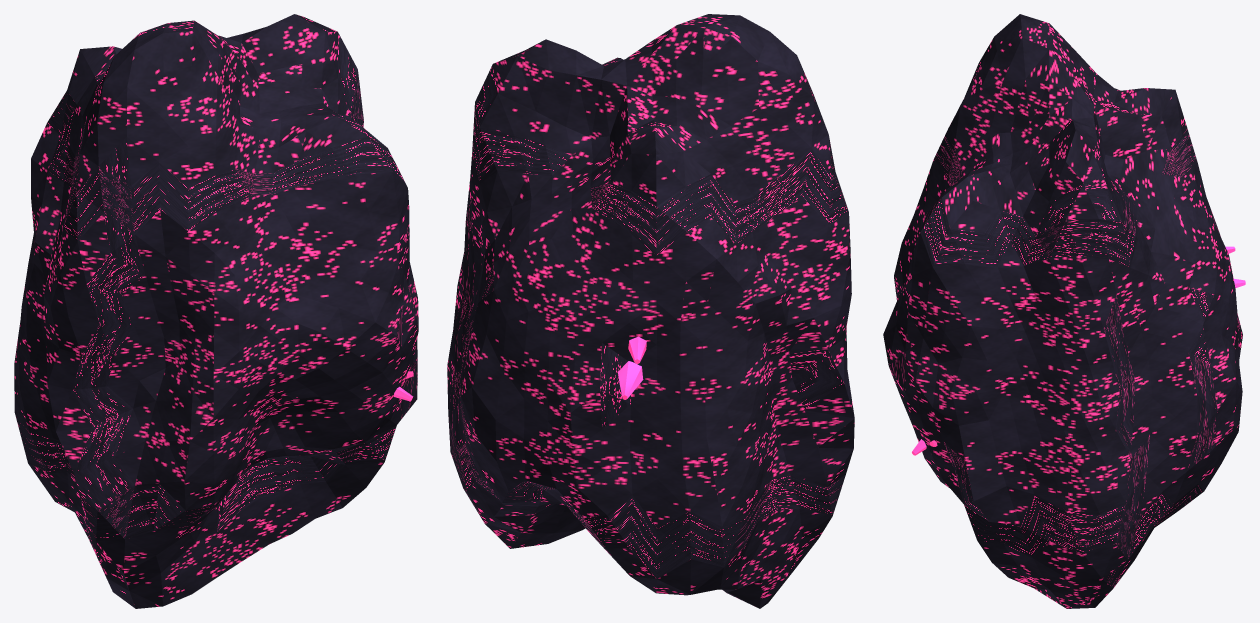
Rendered from ast_void_monolith.glb.
The picture shows the model from 3 angles, left to right: view 1: azimuth 30°, elevation 25°; view 2: azimuth 150°, elevation 25°; view 3: azimuth 270°, elevation 25°; orthographic projection. The views are drawn at different scales.
Parts seen in each view (by area): view 1: ast_void_monolith; view 2: ast_void_monolith; view 3: ast_void_monolith.
Boxes of the visible parts, <box> form: ast_void_monolith: <box>14,14,418,608</box>; ast_void_monolith: <box>447,14,854,608</box>; ast_void_monolith: <box>883,14,1245,608</box>.
Size of the model in its own units: 4.32 by 6.64 by 4.09.
1 material, 1 textured.
